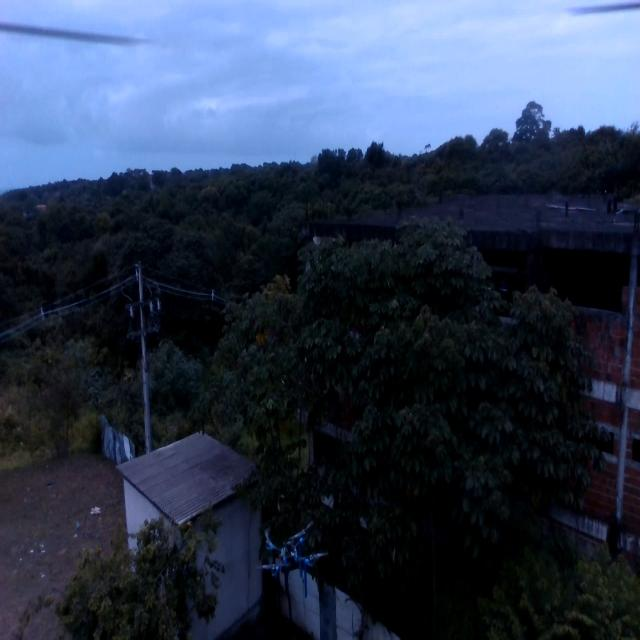-uav-: (242, 505, 332, 606)
